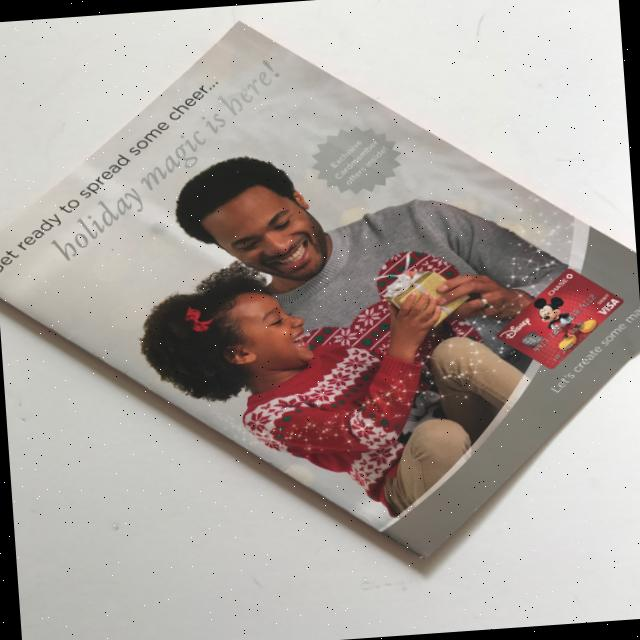paper: (0, 0, 640, 587)
